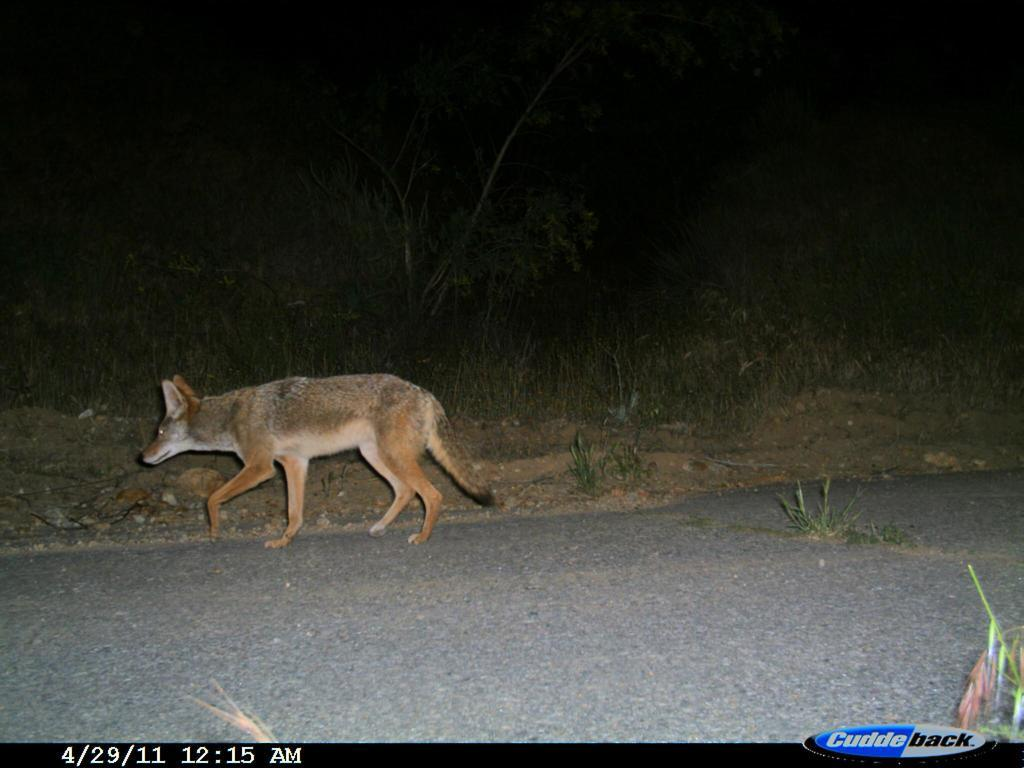coyote: (136, 360, 510, 555)
